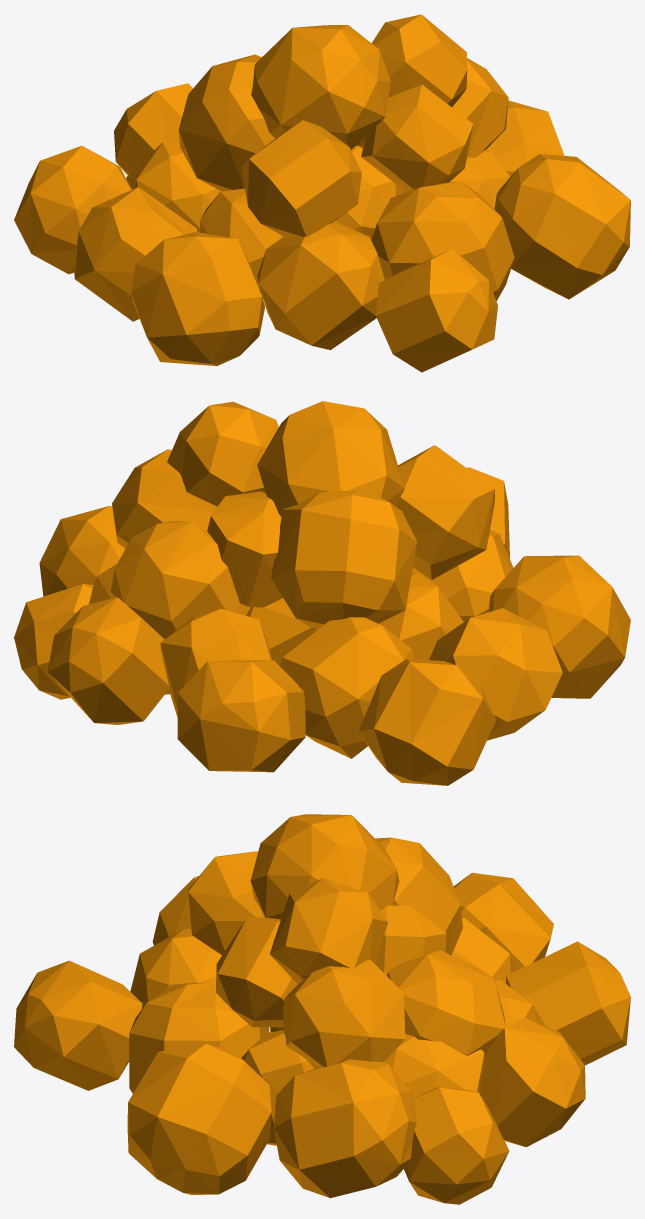
The model's file is Pile of Oranges.fbx.
The picture shows the model from 3 angles, top to bottom: view 1: azimuth 30°, elevation 25°; view 2: azimuth 150°, elevation 25°; view 3: azimuth 270°, elevation 25°; orthographic projection. The views are drawn at different scales.
Visible parts, largest first — view 1: Pile of Oranges; view 2: Pile of Oranges; view 3: Pile of Oranges.
Boxes of the visible parts, x1,y1,x2,y2 form: Pile of Oranges: (14, 14, 630, 372); Pile of Oranges: (14, 401, 630, 785); Pile of Oranges: (14, 814, 630, 1204).
Size of the model in its own units: 53.95 by 29.36 by 56.8.
